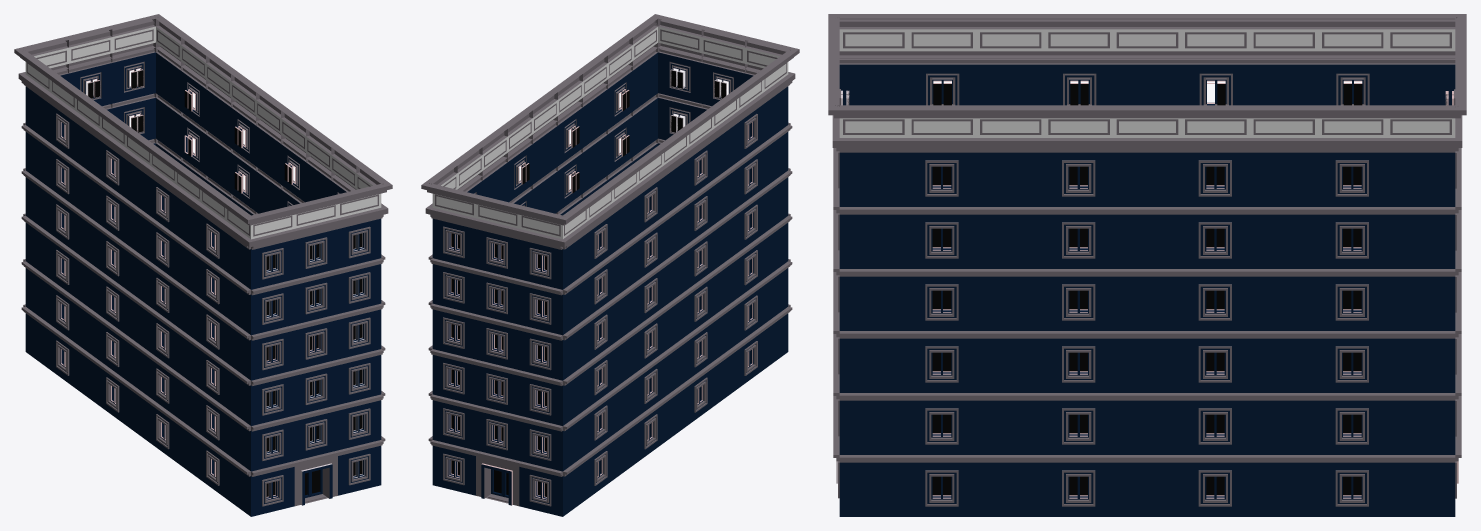
Rendered from myBlueBuilding (1).fbx.
3 renders of one model, left to right at view 1: azimuth 30°, elevation 25°; view 2: azimuth 150°, elevation 25°; view 3: azimuth 270°, elevation 25°, orthographic. The views are drawn at different scales.
Parts seen in each view (by area): view 1: Roof.208; view 2: Roof.208; view 3: Roof.208.
Boxes of the visible parts, bbox=[...] form: Roof.208: bbox=[14, 14, 392, 516]; Roof.208: bbox=[421, 14, 799, 516]; Roof.208: bbox=[828, 14, 1466, 516].
Bounding box in the file's own units: 333 × 664 × 933.
